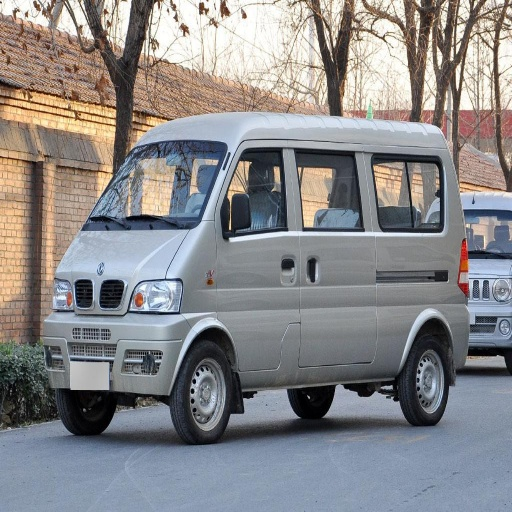back_left_door: (293, 144, 373, 365)
front_bumper: (43, 271, 191, 390)
front_glass: (83, 140, 228, 230)
front_left_door: (216, 142, 299, 373)
trunk: (330, 238, 469, 374)
